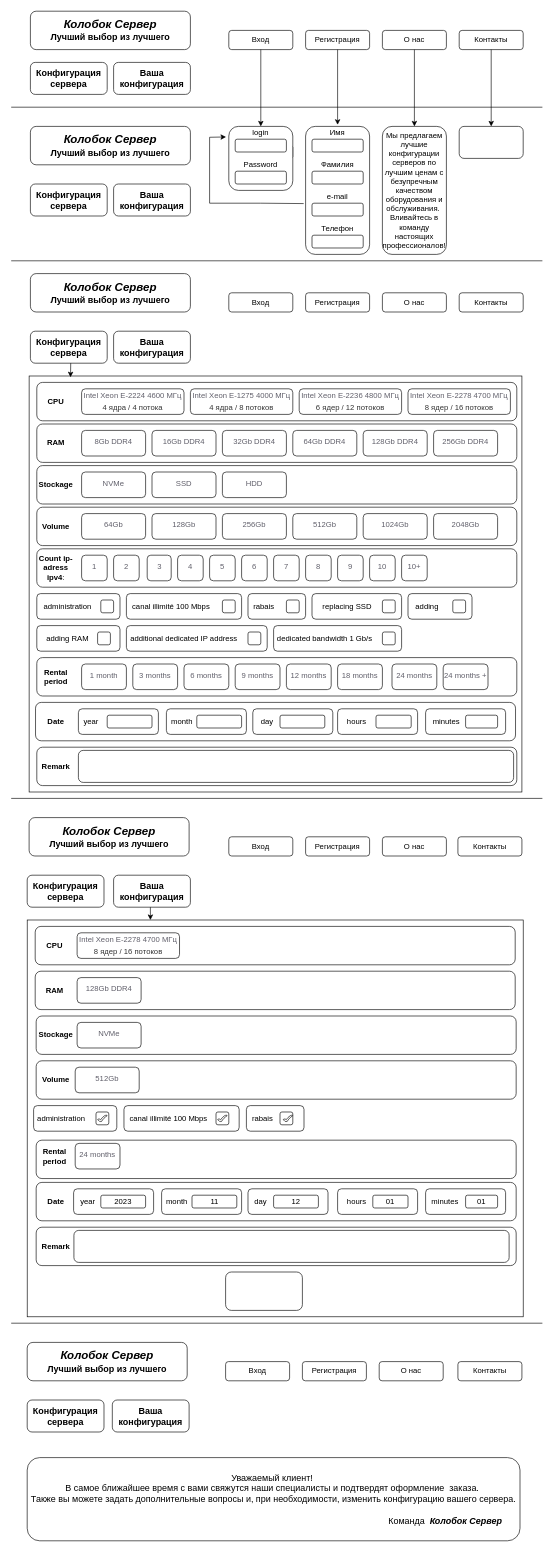
Some shapes in this 554 by 1552 pixel diagram are drawn without their labels. Here are the shapes that lost their labels. From the top down, the centre of each, then its label:
At (491,142): "8-800-567-123 kolobok@gmail.com kolobok.com".
At (263,1290): "Заказать".
